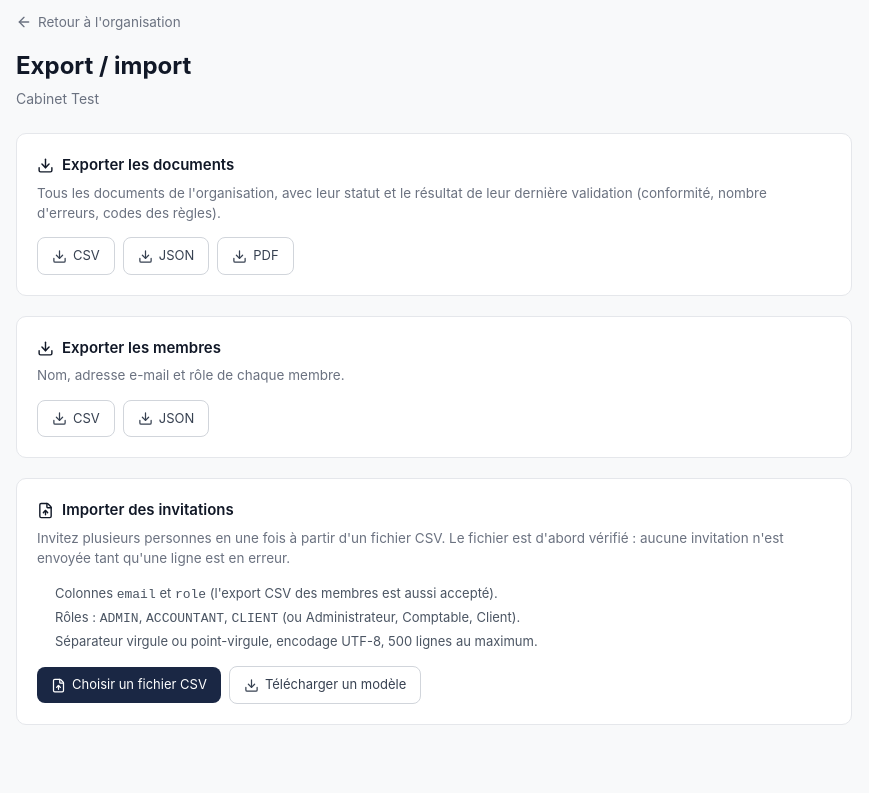
ExportImportPage › affiche le message d'erreur d'un export refusé
Step 1. Click the button named "Exporter les documents en JSON" → (166, 256), box [123,237,209,275]
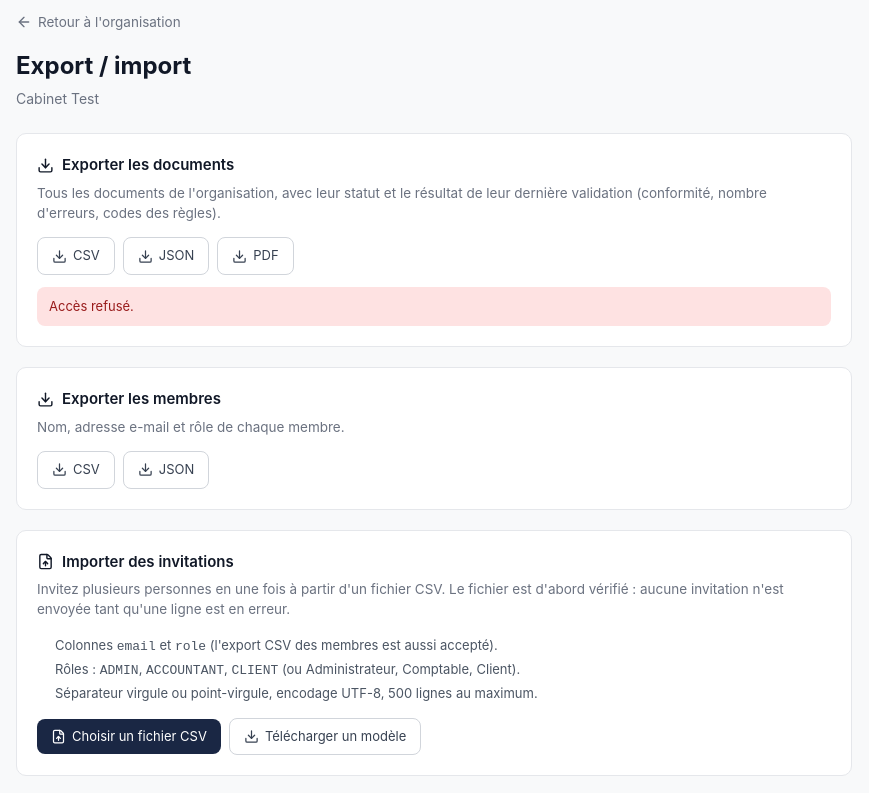
Now the message reads "Accès refusé.", box [49,298,134,314]
